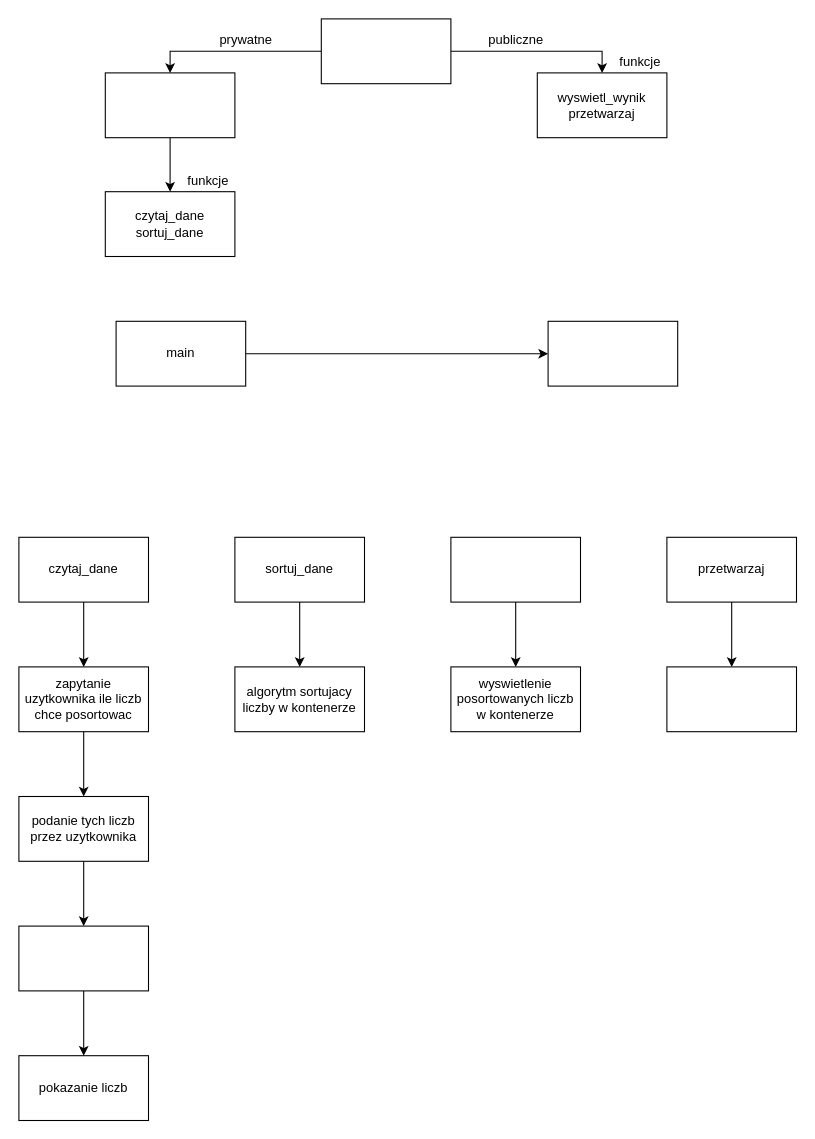
The diagram is 815 pixels wide and 1139 high, and some of its shapes have lost their labels. The shapes that lost their labels are listed below. From the top down, each one's centre as x and y in pixels, then its label:
the point at 385,51: klasa Panel
the point at 169,105: 2 zmienne i vector
the point at 612,353: nazwanie Panel jako liczb i dopisanie przetwarzania liczb
the point at 515,569: wyswietl_wynik
the point at 731,699: wyswietlenie 3 funkcji
the point at 83,958: dodanie liczb do kontenera
